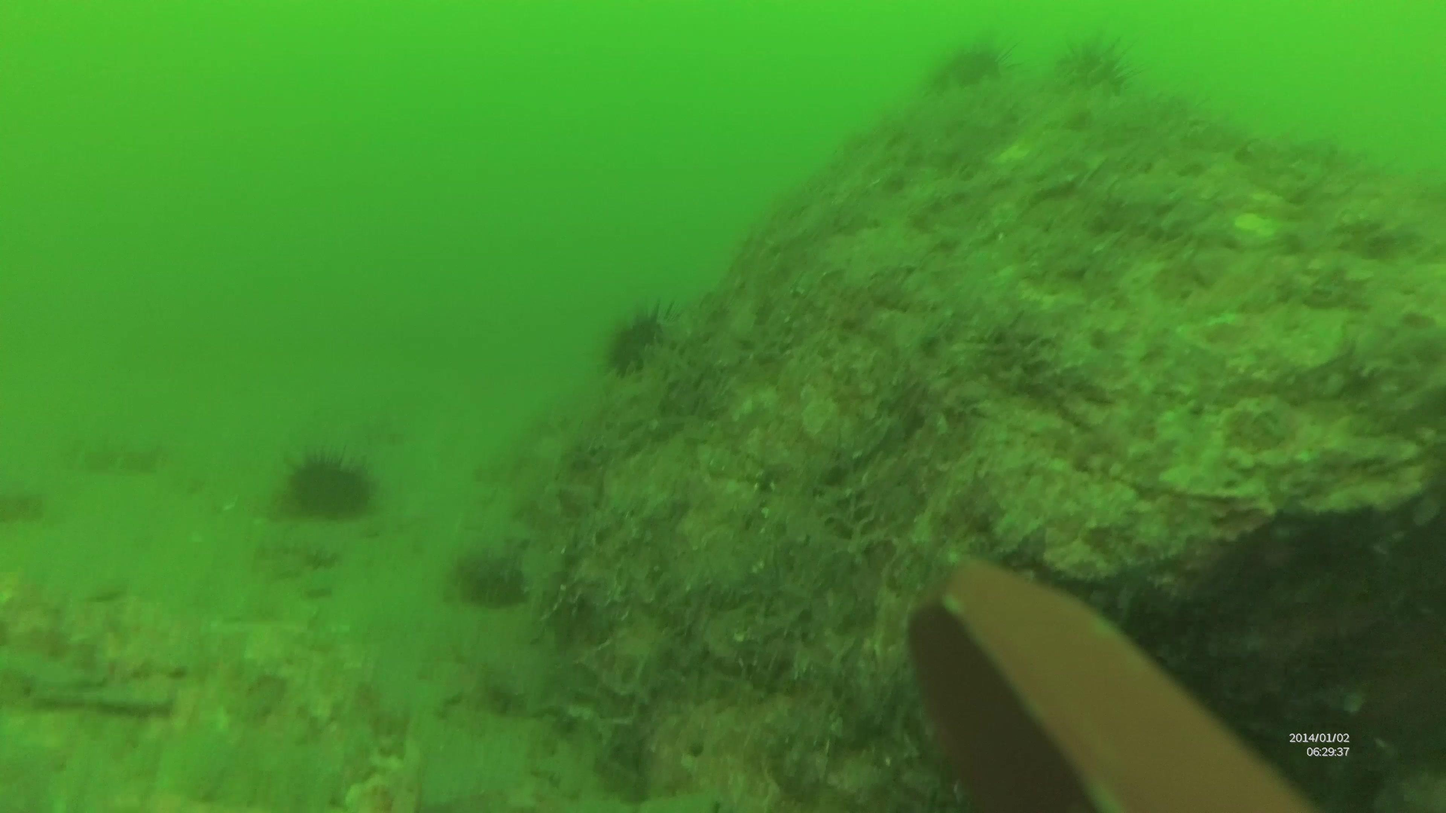starfish: (278, 446, 379, 532), (929, 32, 1025, 113), (1054, 34, 1141, 119), (605, 301, 692, 381)
